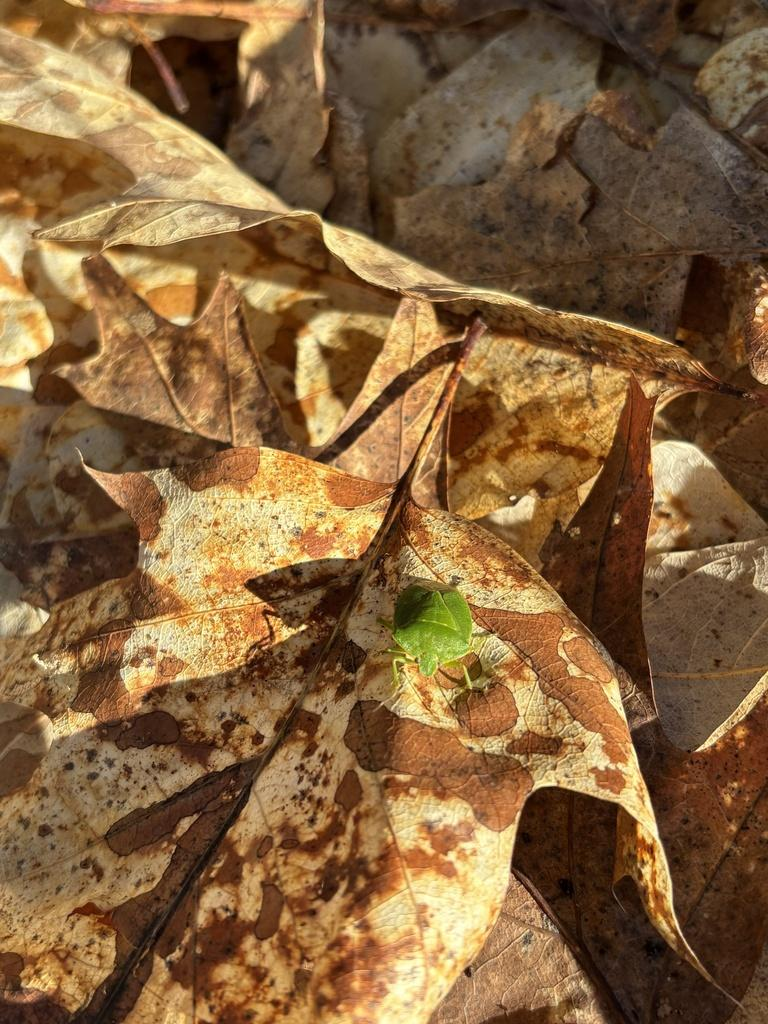stink_bugs: (350, 559, 531, 734)
